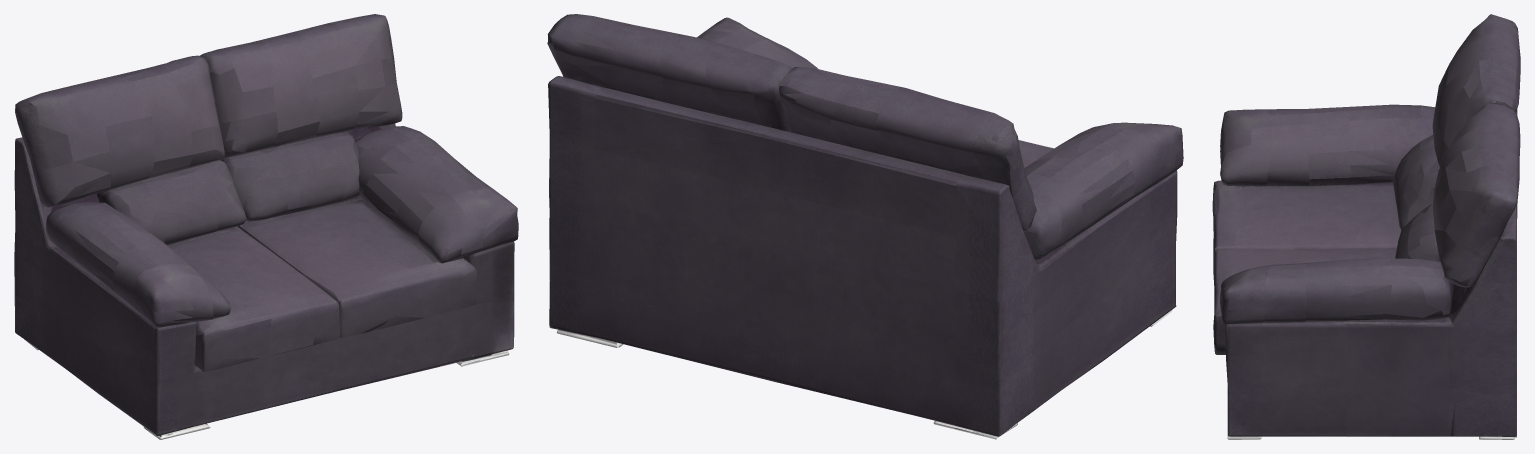
Rendered from sofa-koke.glb.
The picture shows the model from 3 angles, left to right: view 1: azimuth 30°, elevation 25°; view 2: azimuth 150°, elevation 25°; view 3: azimuth 270°, elevation 25°; orthographic projection. The views are drawn at different scales.
Bounding box in the file's own units: 1 × 0.6465 × 0.7109.
1 material, 1 textured.
